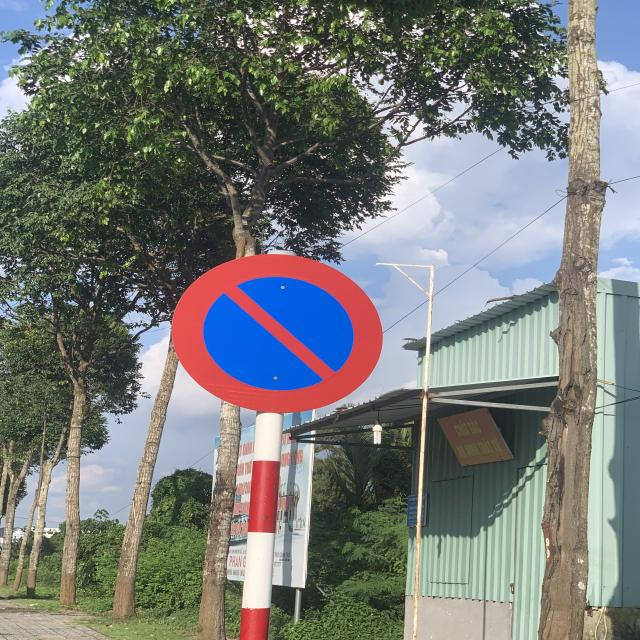Cam_Dau_Xe: (172, 252, 386, 414)
